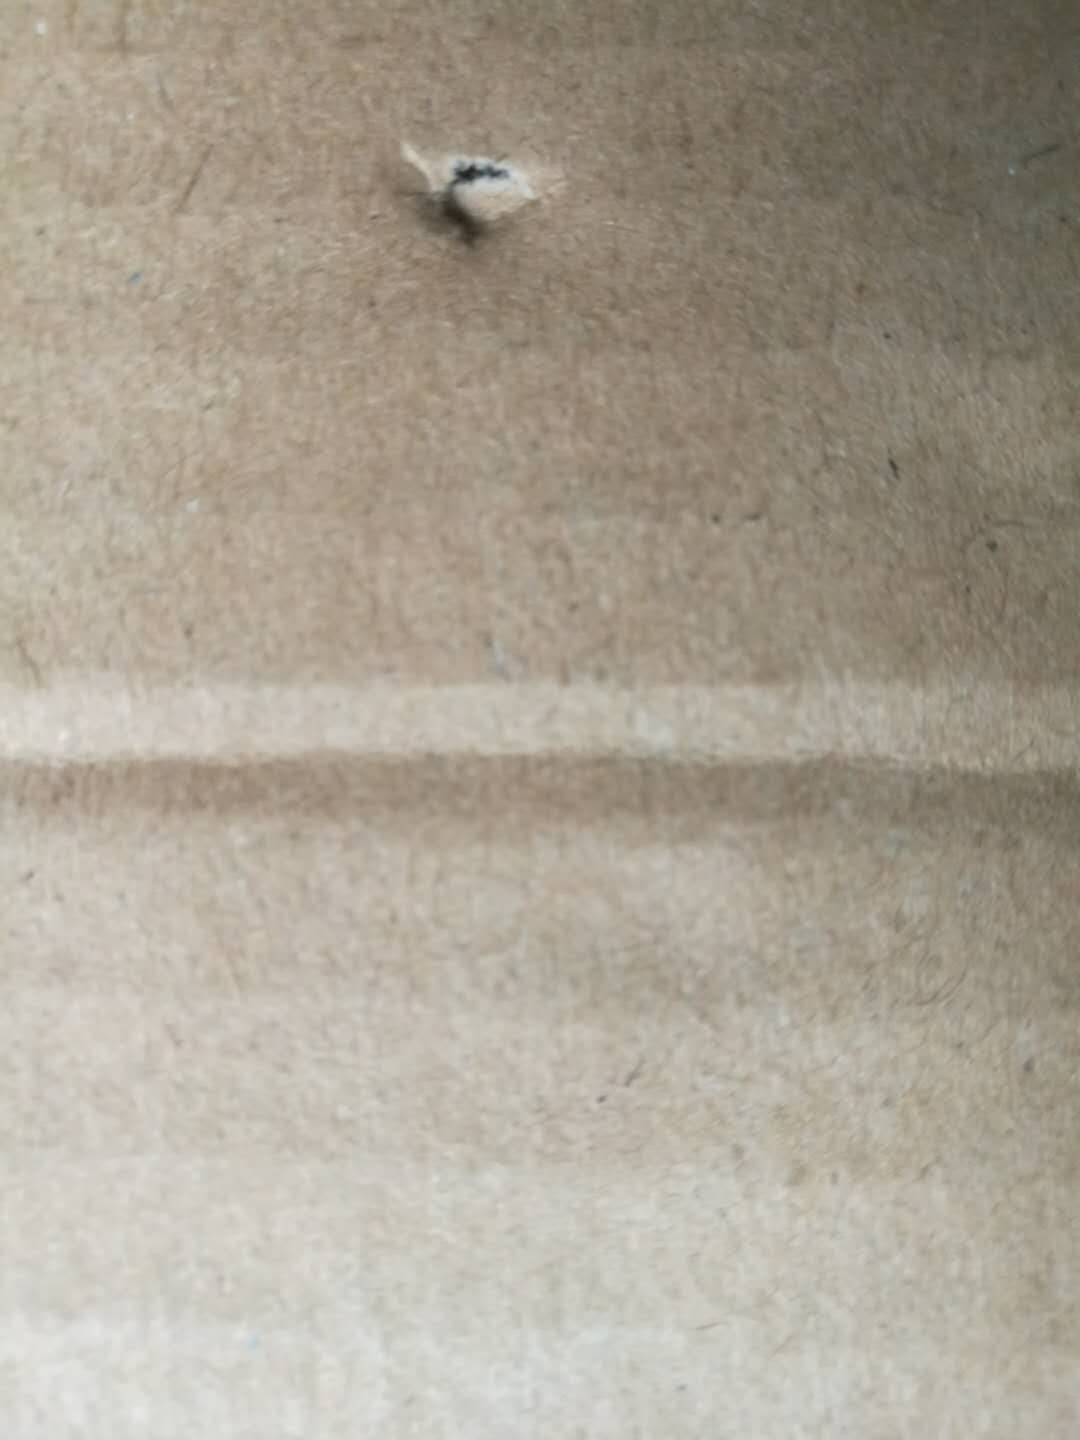defect: (5, 642, 1080, 883), (362, 105, 594, 281)
